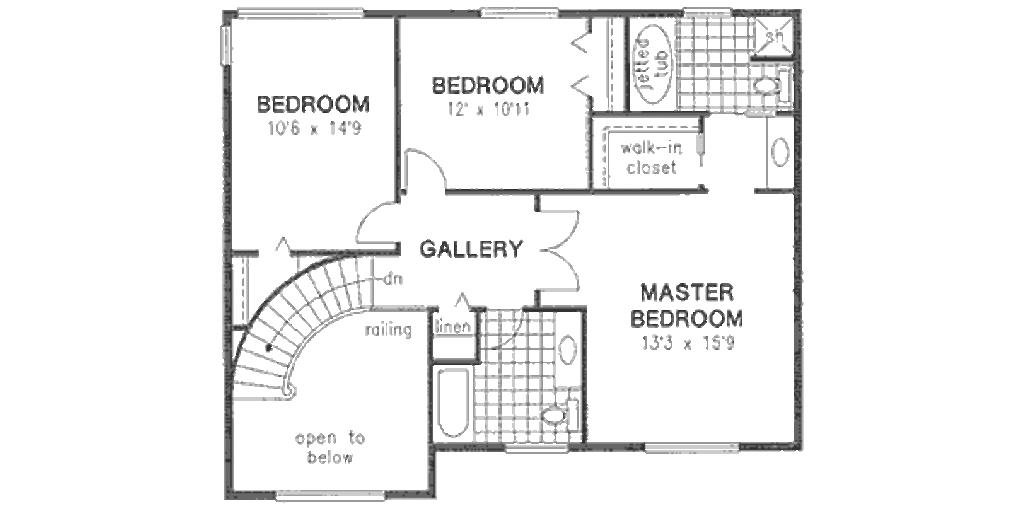door: (536, 208, 589, 291), (478, 302, 529, 356), (402, 147, 453, 196), (350, 201, 402, 243)
large_sink: (537, 391, 592, 437), (748, 56, 794, 106)
small_sink: (552, 310, 588, 388), (767, 114, 795, 192)
stairs: (234, 252, 372, 401)
tub: (433, 363, 475, 445)
window: (236, 5, 370, 29), (272, 487, 386, 505), (641, 438, 739, 454), (474, 3, 562, 20), (677, 1, 737, 23), (505, 441, 567, 456), (218, 24, 239, 66)
